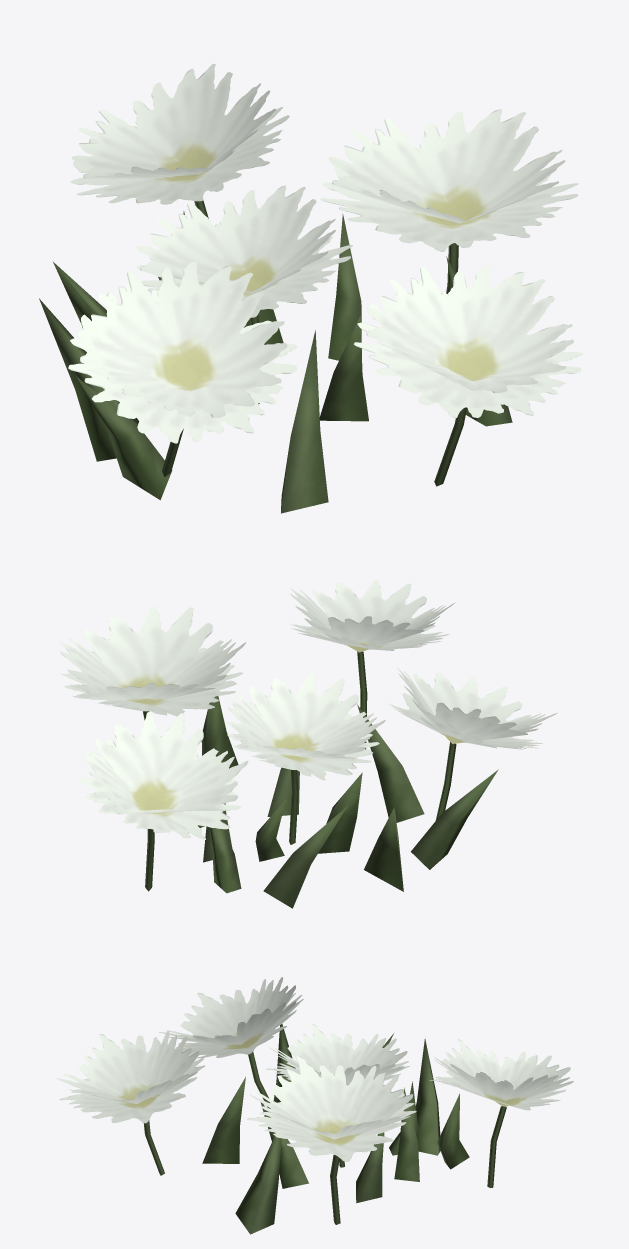
Rendered from Anaphalis.fbx.
3 views of the same model, one above another, from view 1: azimuth 30°, elevation 25°; view 2: azimuth 150°, elevation 25°; view 3: azimuth 270°, elevation 25° (orthographic). The views are drawn at different scales.
Parts seen in each view (by area): view 1: Anaphalis; view 2: Anaphalis; view 3: Anaphalis.
Boxes of the visible parts, x1,y1,x2,y2 form: Anaphalis: (39,63,582,513); Anaphalis: (59,580,557,908); Anaphalis: (56,977,573,1234).
Size of the model in its own units: 53.42 by 22.81 by 64.94.
